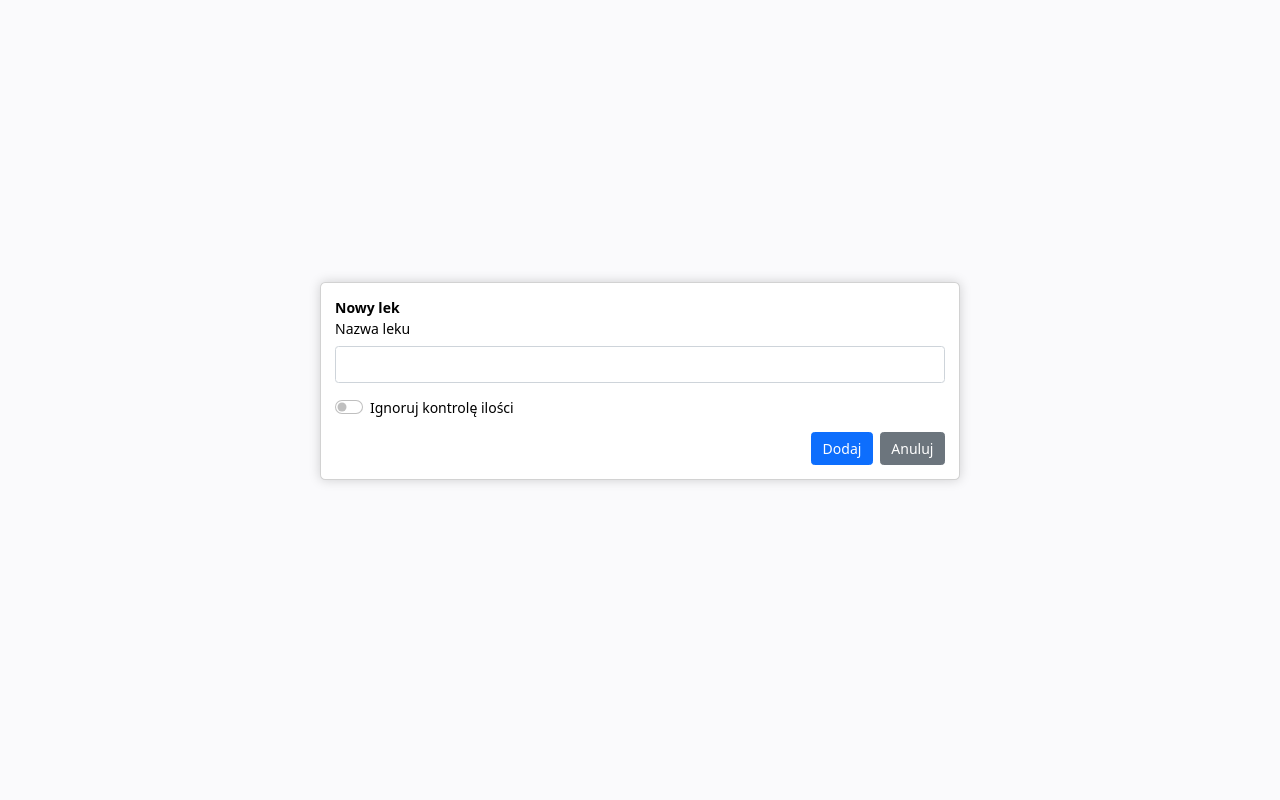
AddMedicineDialog name check › blocks a name that already exists
The width and height of the screenshot is (1280, 800).
Type " TEST " into the field.
click(640, 364); type(" TEST ")  # box [335,346,945,382]
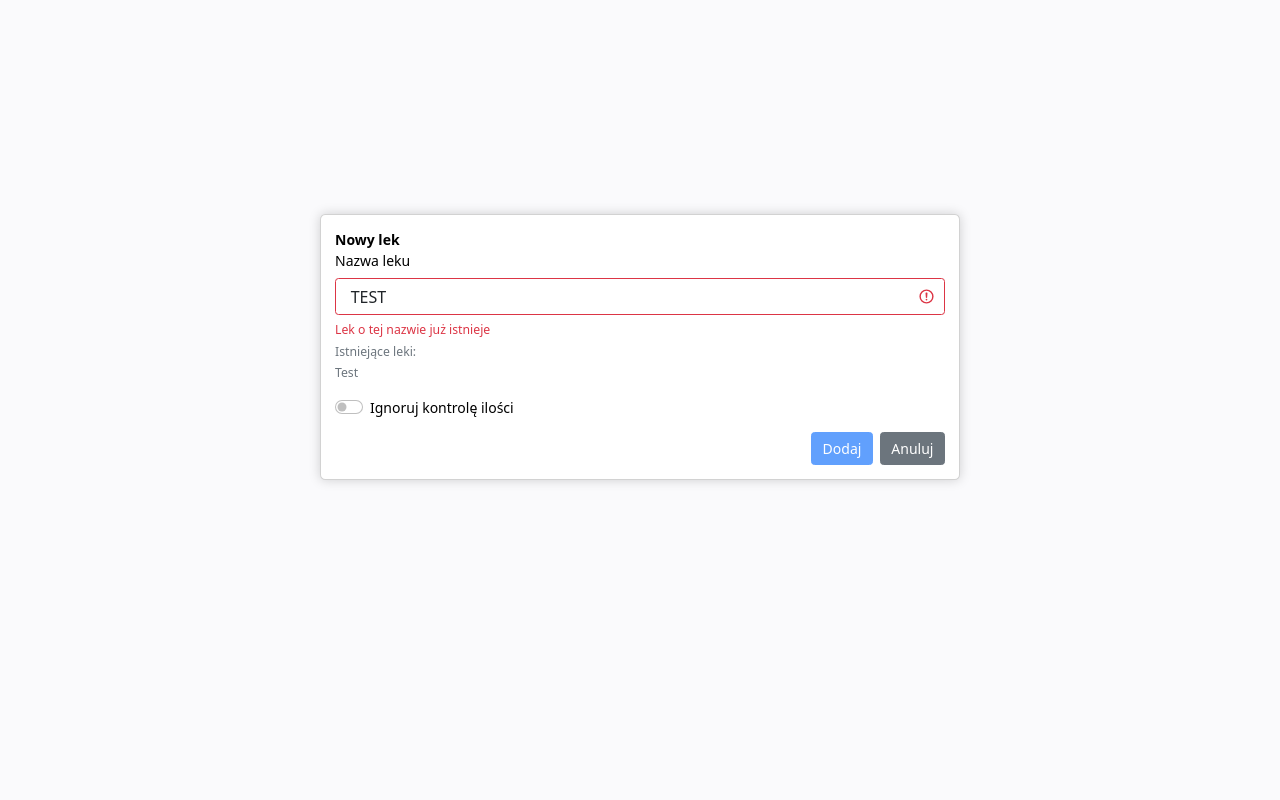
Check: the text "Lek o tej nazwie już istnieje" is shown, box [335,321,490,338]
Check: the button "Dodaj" is disabled, box [811,432,873,465]
